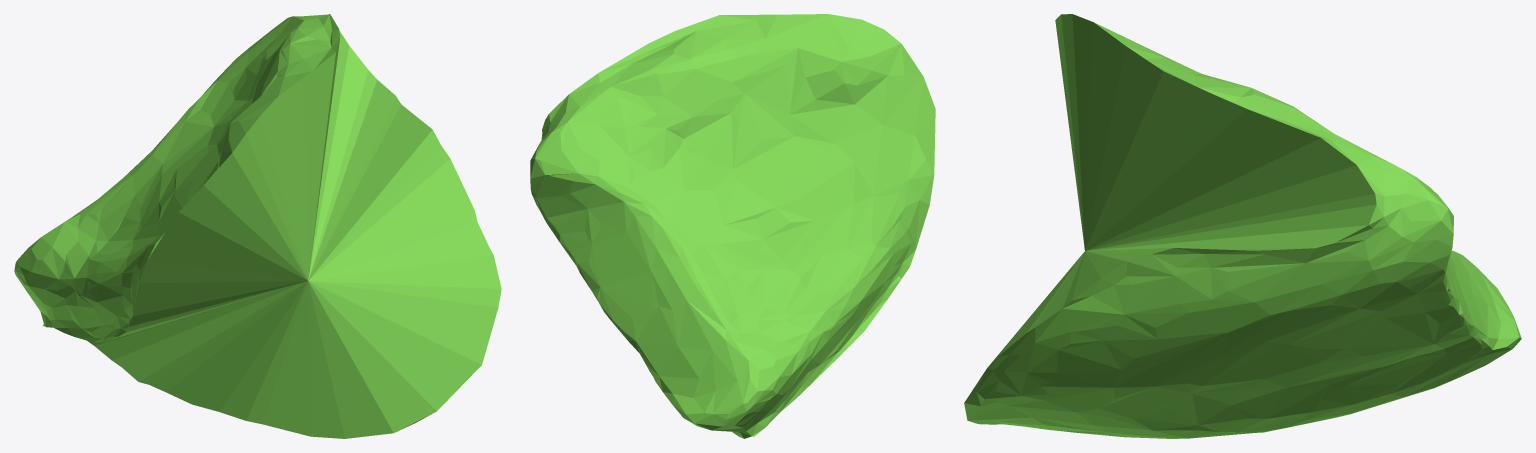
The model's file is Crown_22__Demo_Virtual_Patient.obj.
3 views of the same model, side by side, from view 1: azimuth 30°, elevation 25°; view 2: azimuth 150°, elevation 25°; view 3: azimuth 270°, elevation 25° (orthographic). The views are drawn at different scales.
Size of the model in its own units: 6.85 by 7.05 by 9.05.
